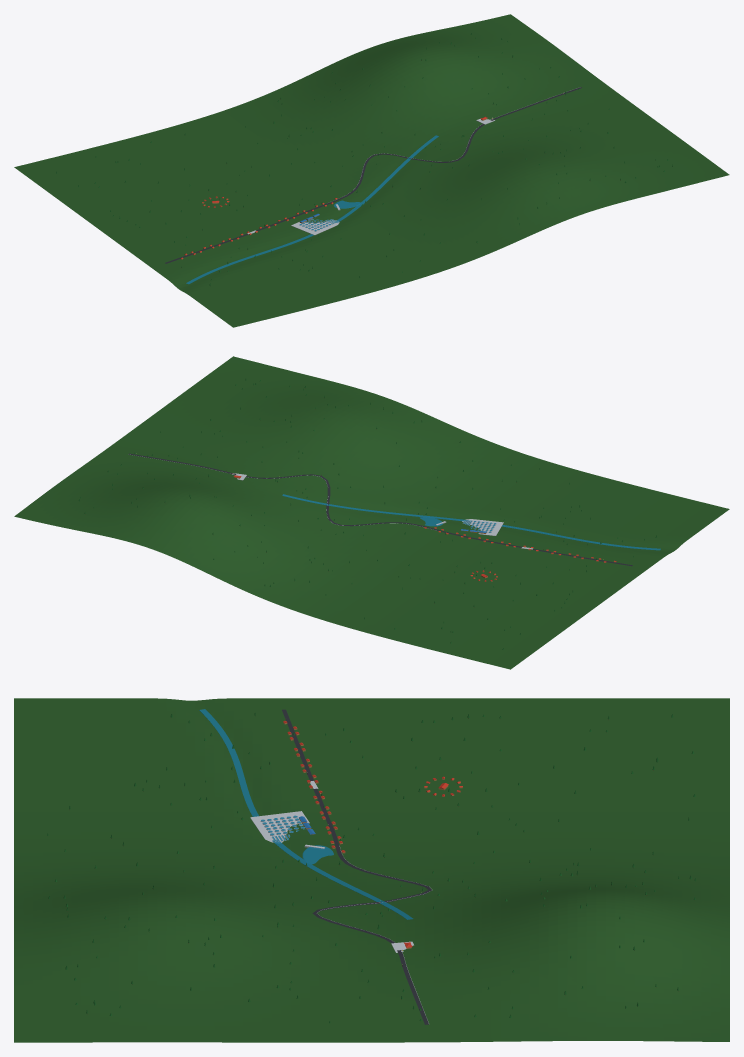
The model's file is ring3_auto_b04_lac_duong_da_nhim_da_chais_sturgeon_farms_and_khanh_le_pass_head.glb.
3 views of the same model, one above another, from view 1: azimuth 30°, elevation 25°; view 2: azimuth 150°, elevation 25°; view 3: azimuth 270°, elevation 25° (orthographic). The views are drawn at different scales.
Parts seen in each view (by area): view 1: DaChais_And_KhanhLe_Pass_1700m_Terrain, KLongKLanh_Stream_And_36_Sturgeon_Tanks_Water, QL27C_Omega_Hairpin_And_Pass_Highway, DaChais_CloudForest_Canopies, Sturgeon_Tank_Walls_Bridge_And_Pass_Guardrails; view 2: DaChais_And_KhanhLe_Pass_1700m_Terrain, KLongKLanh_Stream_And_36_Sturgeon_Tanks_Water, QL27C_Omega_Hairpin_And_Pass_Highway, DaChais_CloudForest_Canopies, Sturgeon_Tank_Walls_Bridge_And_Pass_Guardrails; view 3: DaChais_And_KhanhLe_Pass_1700m_Terrain, KLongKLanh_Stream_And_36_Sturgeon_Tanks_Water, QL27C_Omega_Hairpin_And_Pass_Highway, DaChais_CloudForest_Canopies, Sturgeon_Tank_Walls_Bridge_And_Pass_Guardrails.
Boxes of the visible parts, x1,y1,x2,y2 form: DaChais_And_KhanhLe_Pass_1700m_Terrain: [14, 14, 729, 327]; KLongKLanh_Stream_And_36_Sturgeon_Tanks_Water: [186, 135, 438, 284]; QL27C_Omega_Hairpin_And_Pass_Highway: [165, 87, 581, 263]; DaChais_CloudForest_Canopies: [56, 33, 672, 285]; Sturgeon_Tank_Walls_Bridge_And_Pass_Guardrails: [247, 88, 576, 235]; DaChais_And_KhanhLe_Pass_1700m_Terrain: [14, 356, 729, 669]; KLongKLanh_Stream_And_36_Sturgeon_Tanks_Water: [282, 494, 660, 550]; QL27C_Omega_Hairpin_And_Pass_Highway: [128, 453, 632, 566]; DaChais_CloudForest_Canopies: [79, 379, 656, 649]; Sturgeon_Tank_Walls_Bridge_And_Pass_Guardrails: [130, 454, 532, 549]; DaChais_And_KhanhLe_Pass_1700m_Terrain: [14, 698, 729, 1042]; KLongKLanh_Stream_And_36_Sturgeon_Tanks_Water: [199, 709, 413, 919]; QL27C_Omega_Hairpin_And_Pass_Highway: [282, 709, 431, 1024]; DaChais_CloudForest_Canopies: [47, 713, 695, 1023]; Sturgeon_Tank_Walls_Bridge_And_Pass_Guardrails: [250, 781, 432, 1023].
Bounding box in the file's own units: 3400 × 353 × 2600.
